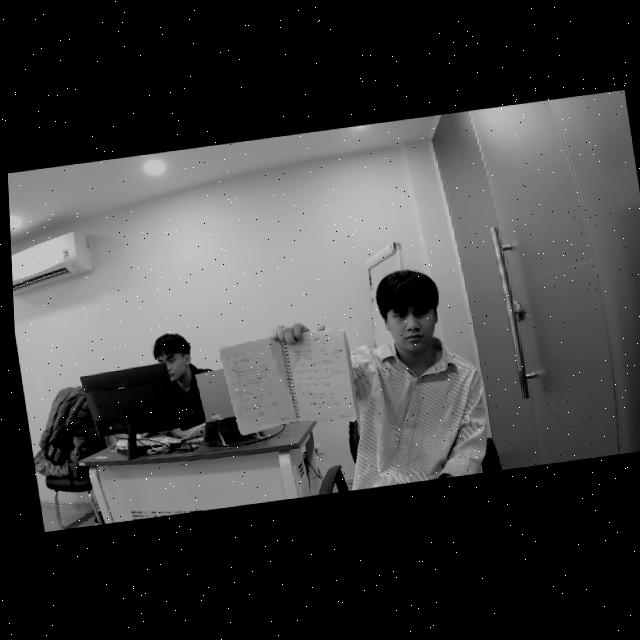document: (218, 329, 360, 436)
face: (381, 285, 448, 359)
